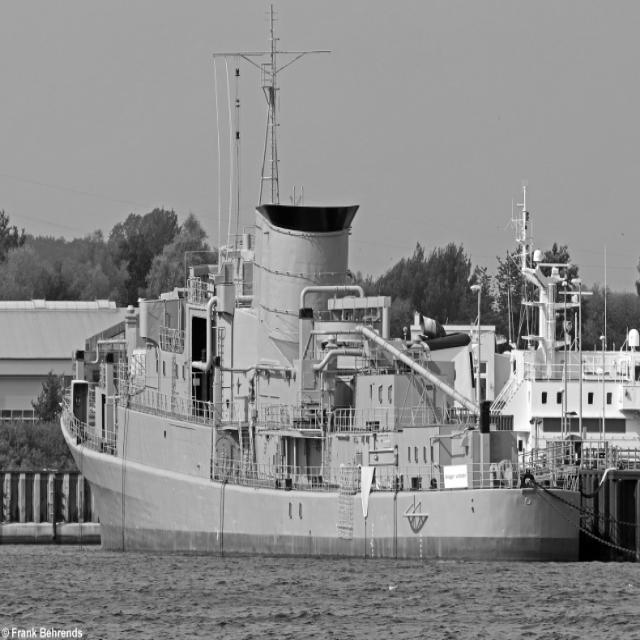Fragata: (58, 37, 582, 565)
